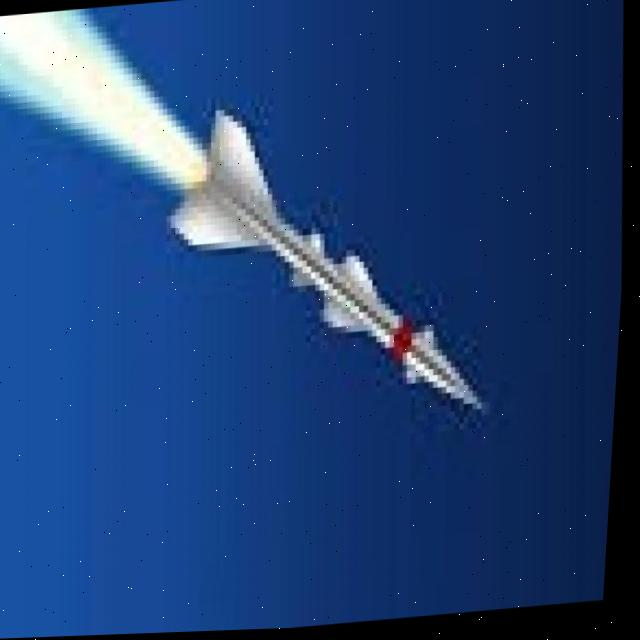missile: (147, 88, 522, 455)
